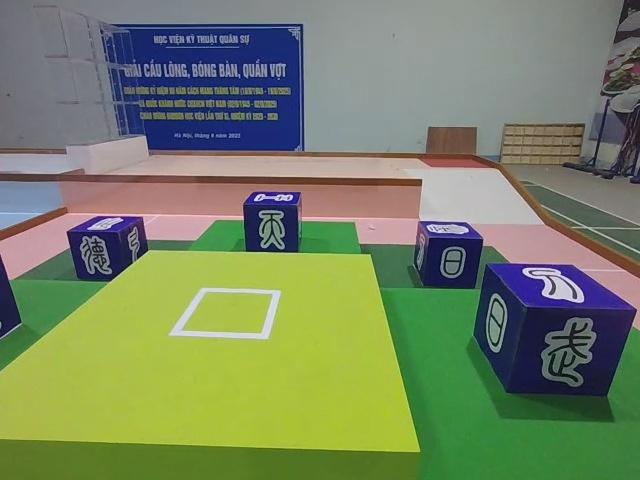R2 Fake Blue: (475, 264, 637, 399), (64, 217, 148, 284), (413, 223, 484, 291), (242, 191, 303, 254), (0, 256, 23, 364)
